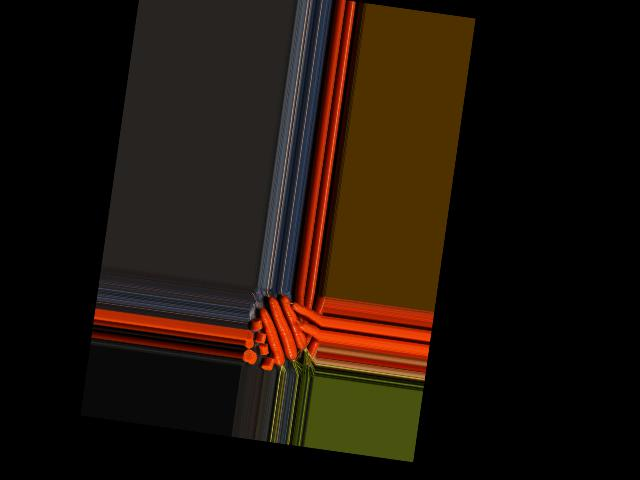carrot: (273, 293, 315, 351)
